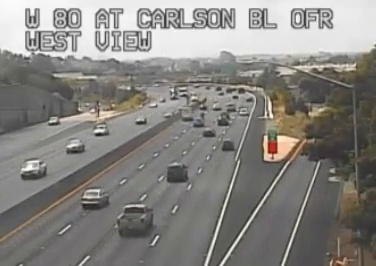car: (117, 204, 154, 235), (80, 189, 108, 207), (167, 163, 186, 181), (221, 139, 233, 150), (202, 128, 216, 137)
